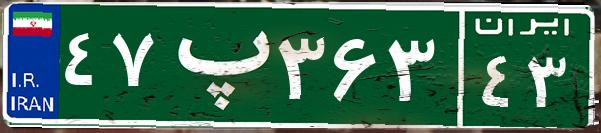3: (385, 28, 445, 110), (273, 28, 330, 110), (525, 38, 570, 115)
4: (57, 26, 110, 107), (475, 38, 525, 113)
6: (330, 28, 385, 110)
7: (110, 28, 158, 105)
پ: (158, 15, 273, 115)
